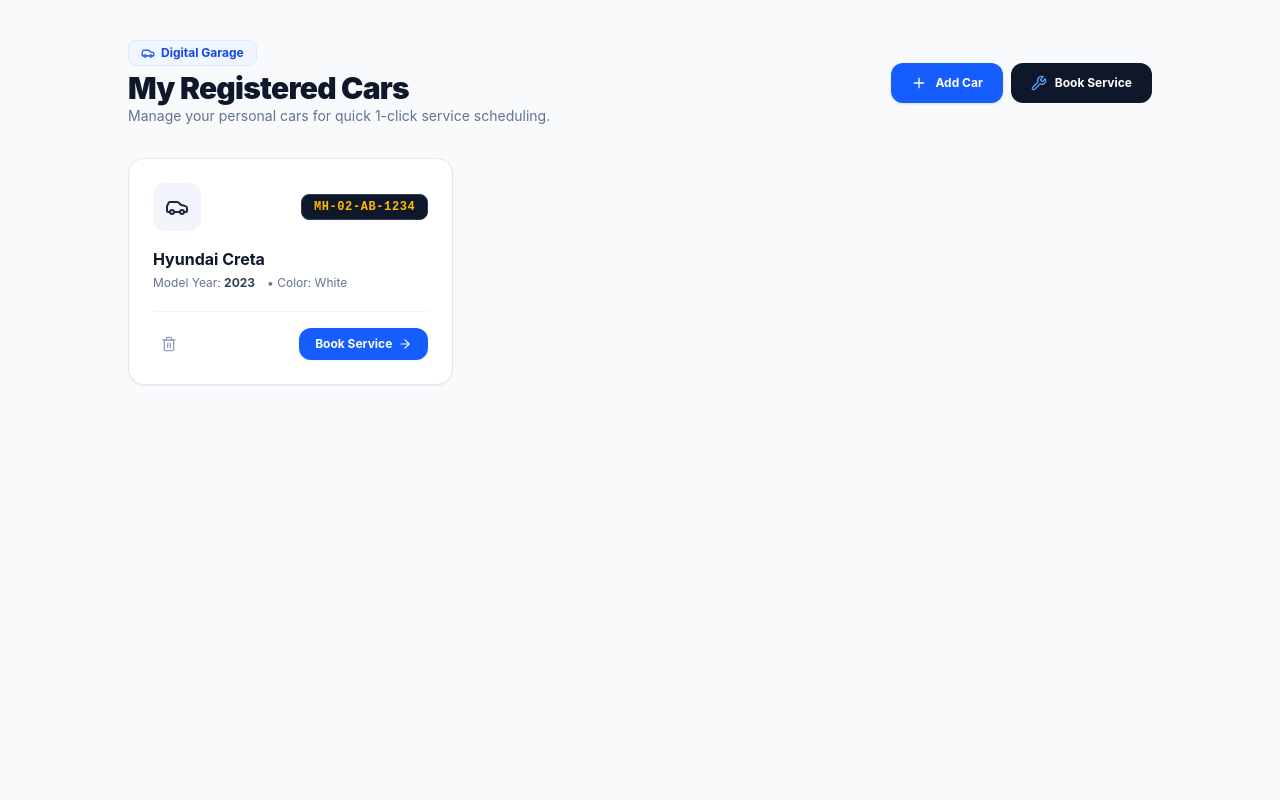
Test: VehiclesPage Component › opens in-app confirmation modal when clicking remove car button
Check: the heading "Hyundai Creta" is shown, box [153, 249, 265, 269]
Click the button titled "Remove Vehicle": (169, 344) [153, 328, 185, 360]
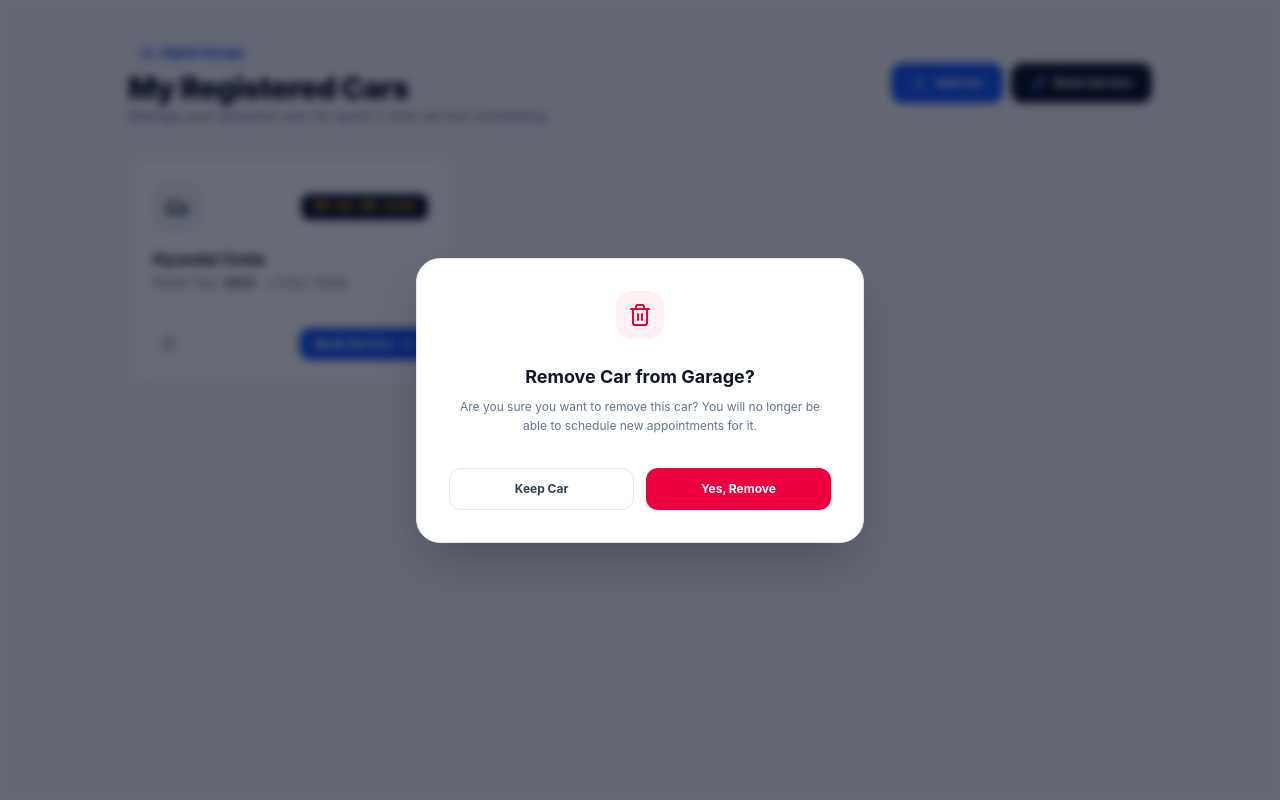
Check: the heading "Remove Car from Garage?" is shown, box [525, 366, 755, 386]
Check: the button "Keep Car" is shown, box [449, 468, 634, 510]
Check: the text "Yes, Remove" is shown, box [701, 480, 776, 496]
